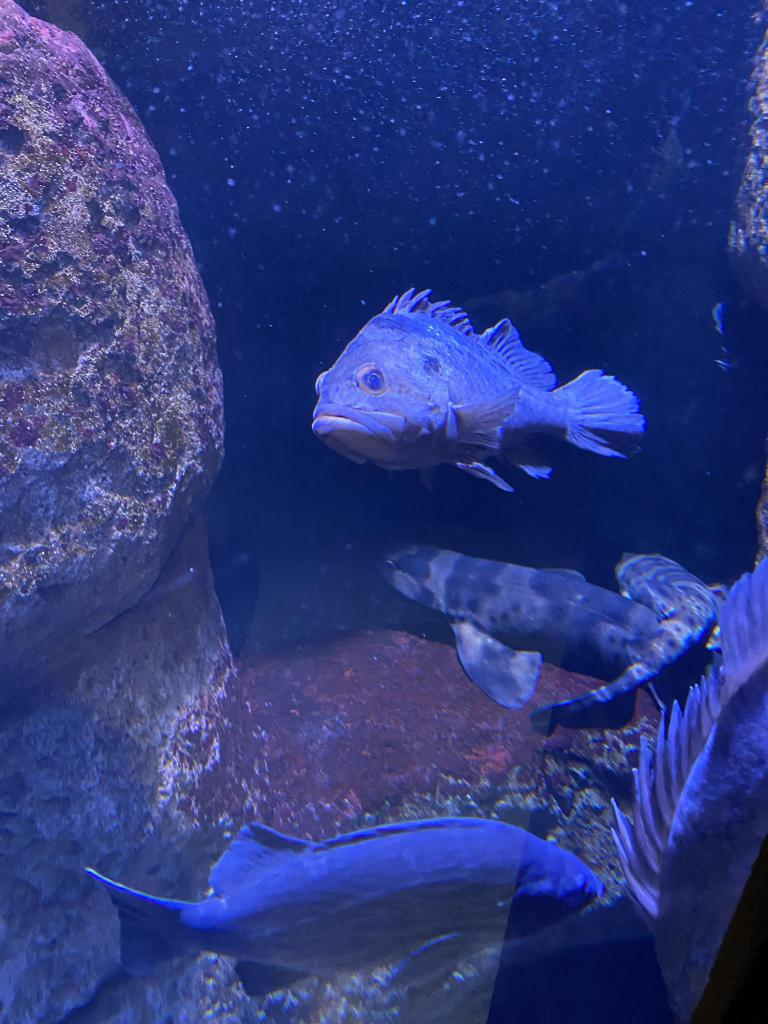fish: (85, 814, 600, 998), (309, 286, 643, 496), (371, 535, 655, 711), (534, 550, 718, 738)
